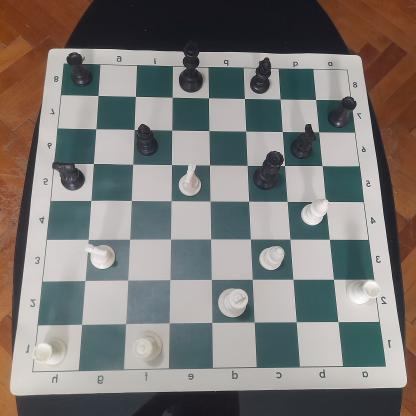black-bishop: (247, 54, 273, 96), (134, 122, 159, 159)
black-king: (178, 39, 204, 93)
black-knight: (51, 158, 87, 197), (288, 122, 318, 162)
black-queen: (249, 150, 286, 190)
black-rook: (325, 93, 359, 128), (63, 51, 96, 87)
white-bishop: (296, 194, 332, 227), (255, 244, 286, 273)
white-king: (215, 284, 250, 322)
white-knight: (85, 239, 116, 271), (176, 162, 202, 198)
white-queen: (128, 328, 166, 365)
white-rook: (31, 334, 70, 370), (343, 276, 381, 308)
